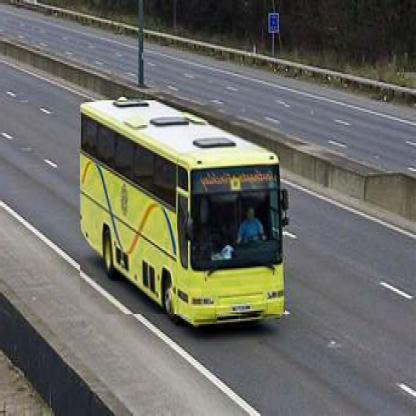bus: (80, 101, 286, 317)
